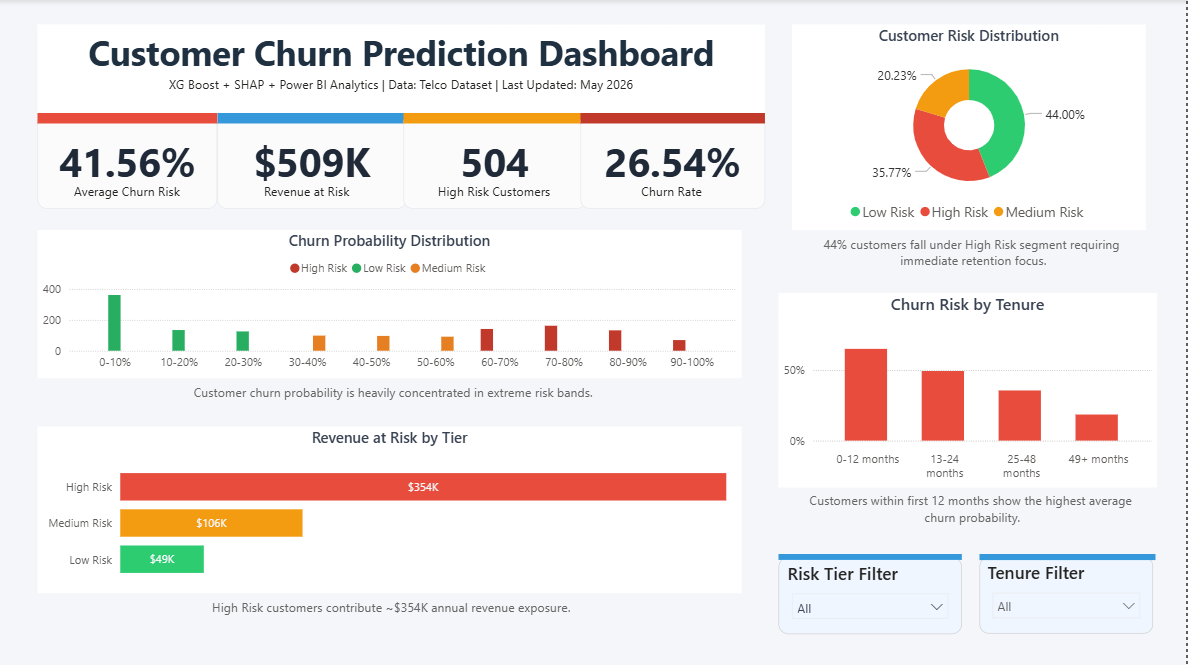

Layout of this report page (visuals, bound fields, positions):
{"tool":"powerbi","page":{"name":"Executive Overview","canvas":[1280,720],"ordinal":0},"visuals":[{"type":"donutChart","title":"Customer Risk Distribution","fields":{"Y":["CountNonNull(predictions_enhanced.risk_tier)"],"Category":["predictions_enhanced.risk_tier"]},"box":[855,28.3,381.7,221.7],"z":0},{"type":"card","fields":{"Values":["Avg(predictions_enhanced.churn_probability)"]},"box":[40,123.3,194.3,103.5],"z":0,"group":"g4"},{"type":"card","fields":{"Values":["predictions.High Risk Customers"]},"box":[435,123.3,197.5,103.5],"z":0,"group":"g5"},{"type":"card","fields":{"Values":["predictions.Churn Rate %"]},"box":[626,123.3,199.1,103.5],"z":0,"group":"g6"},{"type":"card","fields":{"Values":["Sum(predictions_enhanced.annual_revenue_at_risk)"]},"box":[234.3,123.3,204,103.5],"z":1000,"group":"g3"},{"type":"textbox","box":[61.9,192.8,147.7,34],"z":1000,"group":"g4"},{"type":"textbox","box":[457.3,192.8,150.2,34],"z":1000,"group":"g5"},{"type":"textbox","box":[648.4,192.8,151.4,34],"z":1000,"group":"g6"},{"type":"clusteredColumnChart","title":"Churn Probability Distribution","fields":{"Category":["predictions_enhanced.prob_bucket"],"Y":["predictions.Customer Count"],"Series":["predictions_enhanced.probability_color"]},"box":[40,250,760,160],"z":1000},{"type":"shape","box":[40,123.3,194.3,11.3],"z":2000,"group":"g4"},{"type":"shape","box":[435,123.3,197.5,11.3],"z":2000,"group":"g5"},{"type":"shape","box":[626,123.3,199.1,11.3],"z":2000,"group":"g6"},{"type":"clusteredColumnChart","title":"Churn Risk by Tenure","fields":{"Category":["predictions_enhanced.tenure_group_label"],"Y":["Avg(predictions_enhanced.churn_probability)"]},"box":[840,316.7,408.3,210],"z":2000},{"type":"textbox","box":[234.3,192.8,192.6,34],"z":3000,"group":"g3"},{"type":"barChart","title":"Revenue at Risk by Tier","fields":{"Category":["predictions_enhanced.risk_tier"],"Y":["Sum(predictions_enhanced.annual_revenue_at_risk)"],"Series":["predictions_enhanced.risk_tier"]},"box":[40,461.7,760,180],"z":3000},{"type":"textbox","box":[40,28.3,785,95],"z":4000},{"type":"shape","box":[234.3,123.3,204,11.3],"z":5000,"group":"g3"},{"type":"group","id":"g1","title":"Group 2","box":[840,598.3,198.3,86.7],"z":5000},{"type":"group","id":"g2","title":"Group 4","box":[1056.7,598.3,190,85],"z":6000},{"type":"group","id":"g3","title":"Group 5","box":[40,123.3,785,103.3],"z":7000},{"type":"slicer","title":"Risk Tier Filter","fields":{"Values":["predictions_enhanced.risk_tier"]},"box":[840.4,601.2,198.1,83.6],"z":7000,"group":"g1"},{"type":"textbox","box":[855,250,391.7,50],"z":8000},{"type":"slicer","title":"Tenure Filter","fields":{"Values":["predictions_enhanced.tenure_group_label"]},"box":[1056.7,600.9,187.2,82.4],"z":8000,"group":"g2"},{"type":"group","id":"g4","title":"Group 1","box":[40,123.3,194.3,103.5],"z":9000,"group":"g3"},{"type":"textbox","box":[840,526.7,415,53.3],"z":9000},{"type":"group","id":"g5","title":"Group 3","box":[435,123.3,197.5,103.5],"z":10000,"group":"g3"},{"type":"textbox","box":[48.3,410,751.7,51.7],"z":10000},{"type":"group","id":"g6","title":"Group 3","box":[626,123.3,199.1,103.5],"z":11000,"group":"g3"},{"type":"textbox","box":[40,641.7,760,43.3],"z":11000},{"type":"shape","box":[840,598.3,197.9,6.4],"z":14001,"group":"g1"},{"type":"shape","box":[1056.7,598.3,190,6.6],"z":14002,"group":"g2"}]}

Visuals, with their boxes in screenshot pixels (x1, y1, x2, y2), scaled from the page's 1280x720 canvas onto the 1188x665 screenshot:
"Customer Risk Distribution" donutChart: 794/26/1148/231
card - Avg(predictions_enhanced.churn_probability): 37/114/217/209
card - predictions.High Risk Customers: 404/114/587/209
card - predictions.Churn Rate %: 581/114/766/209
card - Sum(predictions_enhanced.annual_revenue_at_risk): 217/114/407/209
textbox: 57/178/195/209
textbox: 424/178/564/209
textbox: 602/178/742/209
"Churn Probability Distribution" clusteredColumnChart: 37/231/742/379
shape: 37/114/217/124
shape: 404/114/587/124
shape: 581/114/766/124
"Churn Risk by Tenure" clusteredColumnChart: 780/293/1159/486
textbox: 217/178/396/209
"Revenue at Risk by Tier" barChart: 37/426/742/593
textbox: 37/26/766/114
shape: 217/114/407/124
"Group 2" group: 780/553/964/633
"Group 4" group: 981/553/1157/631
"Group 5" group: 37/114/766/209
"Risk Tier Filter" slicer: 780/555/964/632
textbox: 794/231/1157/277
"Tenure Filter" slicer: 981/555/1154/631
"Group 1" group: 37/114/217/209
textbox: 780/486/1165/536
"Group 3" group: 404/114/587/209
textbox: 45/379/742/426
"Group 3" group: 581/114/766/209
textbox: 37/593/742/633
shape: 780/553/963/559
shape: 981/553/1157/559
